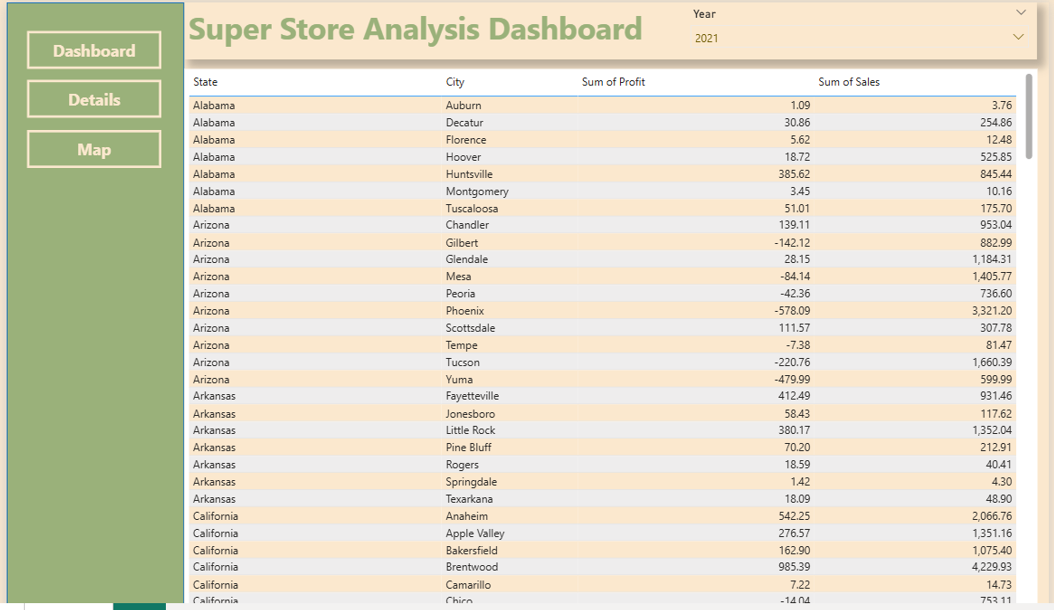

The dashboard page shown, as its layout file describes it:
{"tool":"powerbi","page":{"name":"Map","canvas":[1280,850],"ordinal":1},"visuals":[{"type":"textbox","box":[218.3,0,1046.7,70],"z":0},{"type":"shape","box":[0,0,218,850],"z":1000},{"type":"slicer","fields":{"Values":["Orders.Order Date.Variation.Date Hierarchy.Year","Orders.Order Date.Variation.Date Hierarchy.Quarter","Orders.Order Date.Variation.Date Hierarchy.Month","Orders.Order Date.Variation.Date Hierarchy.Day"]},"box":[830,0,435,70],"z":2000},{"type":"actionButton","box":[25,35,165,46.7],"z":3000},{"type":"actionButton","box":[25,95,165,46.7],"z":4000},{"type":"actionButton","box":[25,156.7,165,46.7],"z":5000},{"type":"tableEx","fields":{"Values":["Orders.State","Orders.City","Sum(Orders.Profit)","Sum(Orders.Sales)"]},"box":[218.3,81.7,1046.7,768.3],"z":7000}]}

Visuals, with their boxes on the page's 1280x850 design canvas (x1, y1, x2, y2). These are canvas units, not pixel positions in the 1054x610 screenshot, which may show the page scaled, cropped or inside an application window:
textbox: bbox=(218, 0, 1265, 70)
shape: bbox=(0, 0, 218, 850)
slicer - Orders.Order Date.Variation.Date Hierarchy.Year x Orders.Order Date.Variation.Date Hierarchy.Quarter: bbox=(830, 0, 1265, 70)
actionButton: bbox=(25, 35, 190, 82)
actionButton: bbox=(25, 95, 190, 142)
actionButton: bbox=(25, 157, 190, 203)
tableEx - Orders.State x Orders.City: bbox=(218, 82, 1265, 850)
